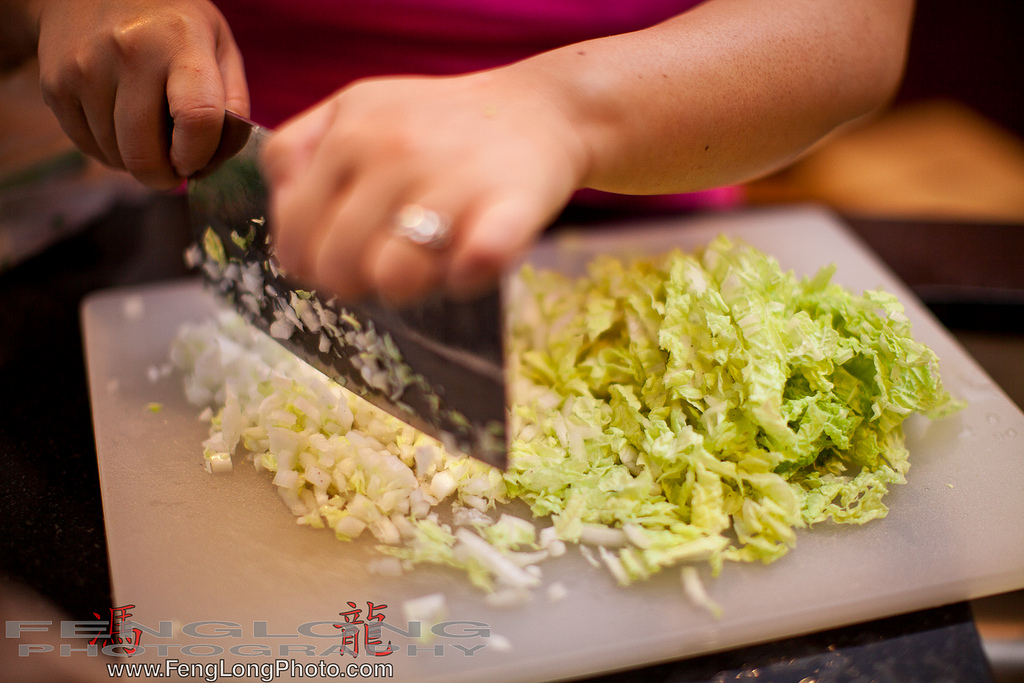chopped lettuce: (523, 263, 954, 588)
